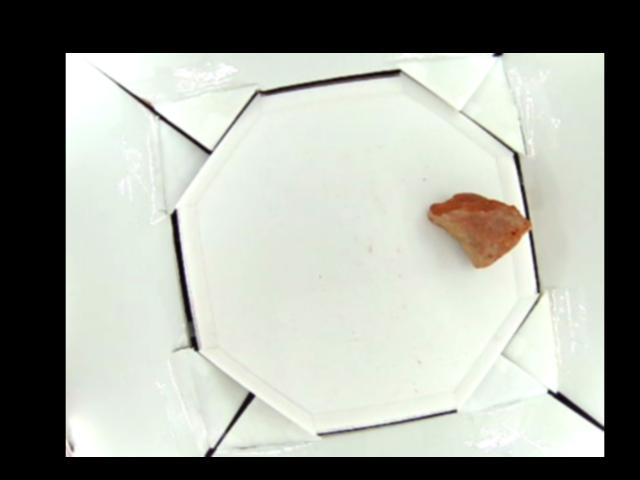Brisk: (429, 191, 531, 267)
